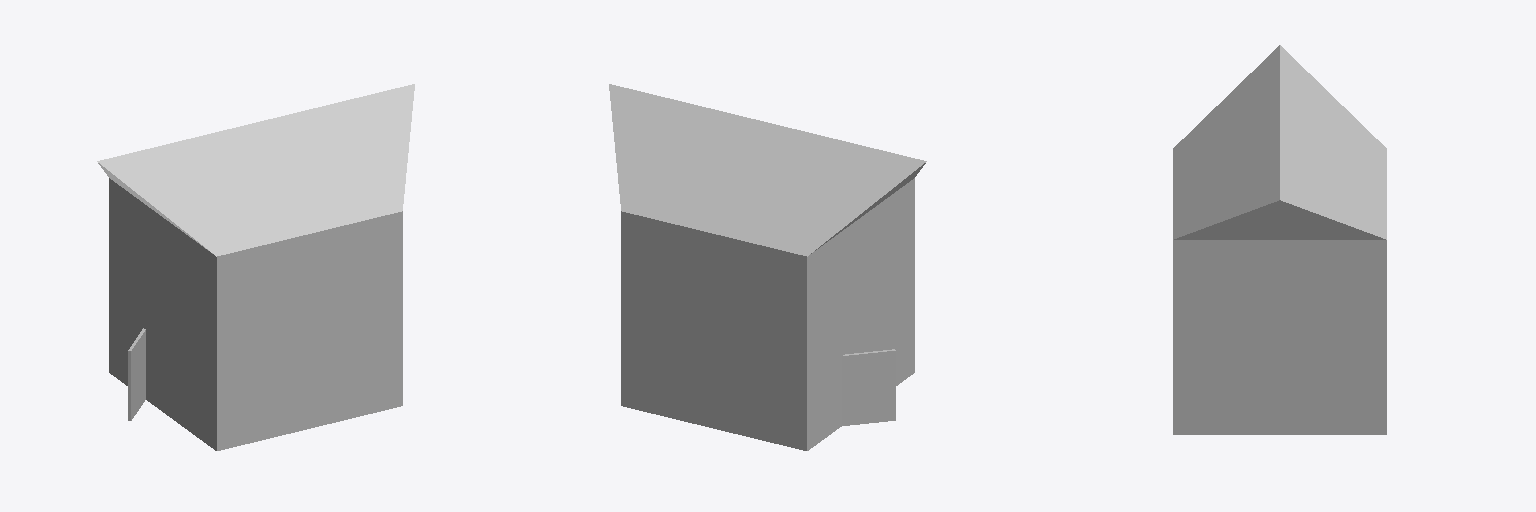
File: house.obj
The picture shows the model from 3 angles: view 1: azimuth 30°, elevation 25°; view 2: azimuth 150°, elevation 25°; view 3: azimuth 270°, elevation 25°; orthographic projection.
Visible parts, largest first — view 1: Cube; view 2: Cube; view 3: Cube.
Part boxes in pixels (x1,y1,x2,y2): Cube: (97,84,414,450); Cube: (609,84,926,450); Cube: (1173,45,1386,434).
Size of the model in its own units: 3.42 by 2.74 by 2.